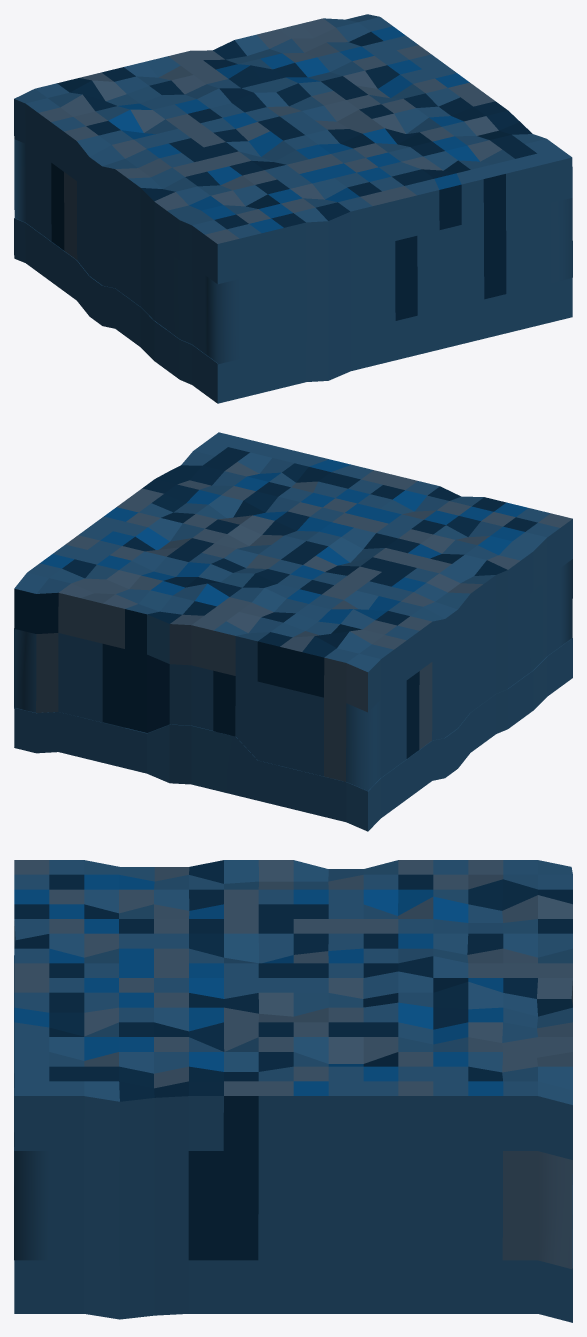
File: water.obj
3 renders of one model, top to bottom at view 1: azimuth 30°, elevation 25°; view 2: azimuth 150°, elevation 25°; view 3: azimuth 270°, elevation 25°, orthographic. The views are drawn at different scales.
Visible parts, largest first — view 1: Water, Fondale; view 2: Water, Fondale; view 3: Water, Fondale.
Boxes of the visible parts, bbox=[...] form: Water: bbox=[14, 14, 572, 364]; Fondale: bbox=[14, 218, 572, 403]; Water: bbox=[14, 432, 572, 790]; Fondale: bbox=[14, 638, 572, 831]; Water: bbox=[14, 860, 572, 1269]; Fondale: bbox=[14, 1174, 572, 1322].
Size of the model in its own units: 8829 by 4253 by 8826.
